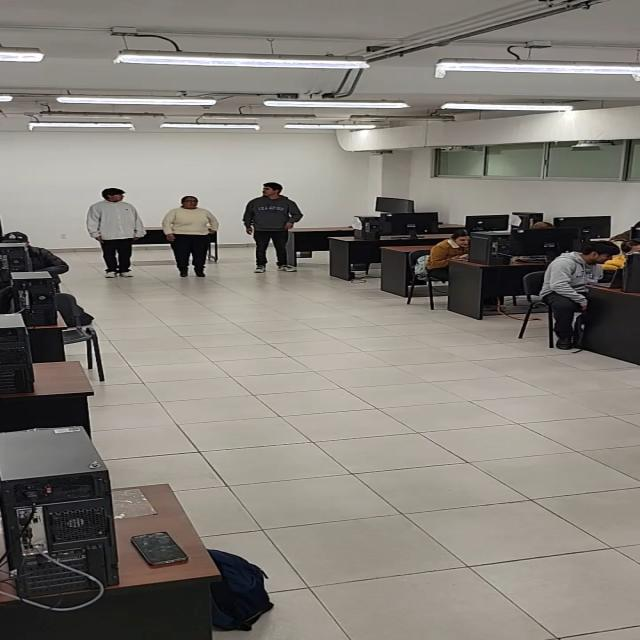Persona: (242, 182, 305, 273), (86, 188, 146, 278), (160, 195, 220, 278)
